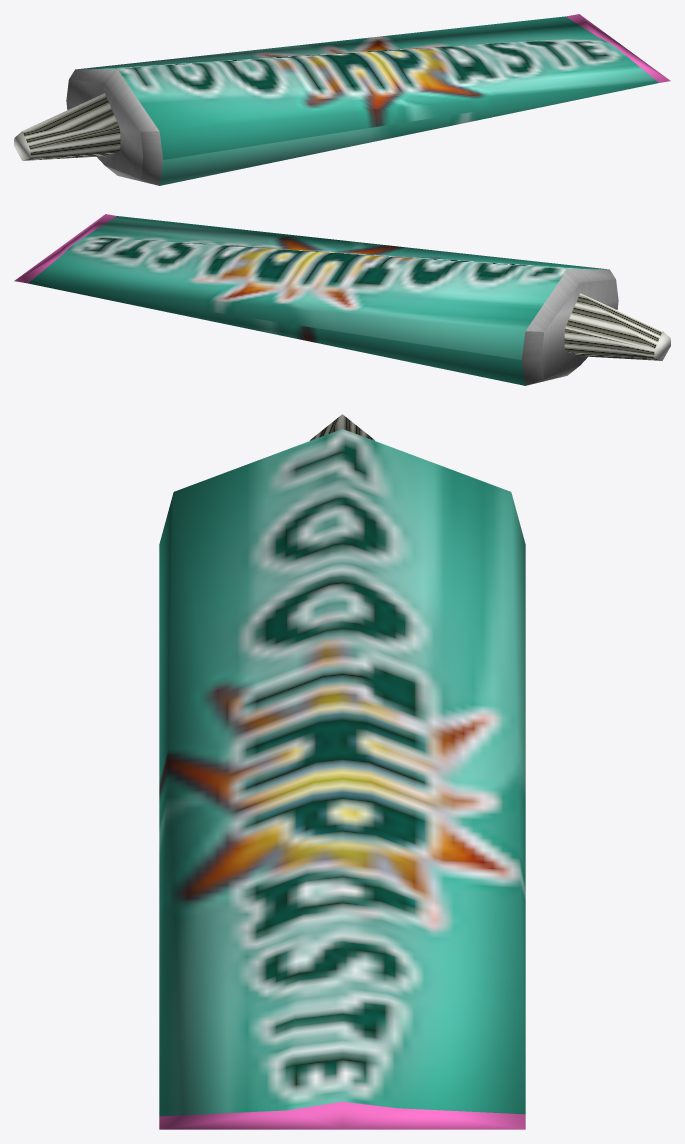
The model's file is Toothpaste.FBX.
3 renders of one model, top to bottom at view 1: azimuth 30°, elevation 25°; view 2: azimuth 150°, elevation 25°; view 3: azimuth 270°, elevation 25°, orthographic. The views are drawn at different scales.
Visible parts, largest first — view 1: Toothpaste; view 2: Toothpaste; view 3: Toothpaste.
Boxes of the visible parts, x1=… form: Toothpaste: x1=14, y1=14, x2=670, y2=185; Toothpaste: x1=14, y1=214, x2=670, y2=385; Toothpaste: x1=159, y1=414, x2=525, y2=1129.
Bounding box in the file's own units: 47.37 × 8.06 × 12.46.
